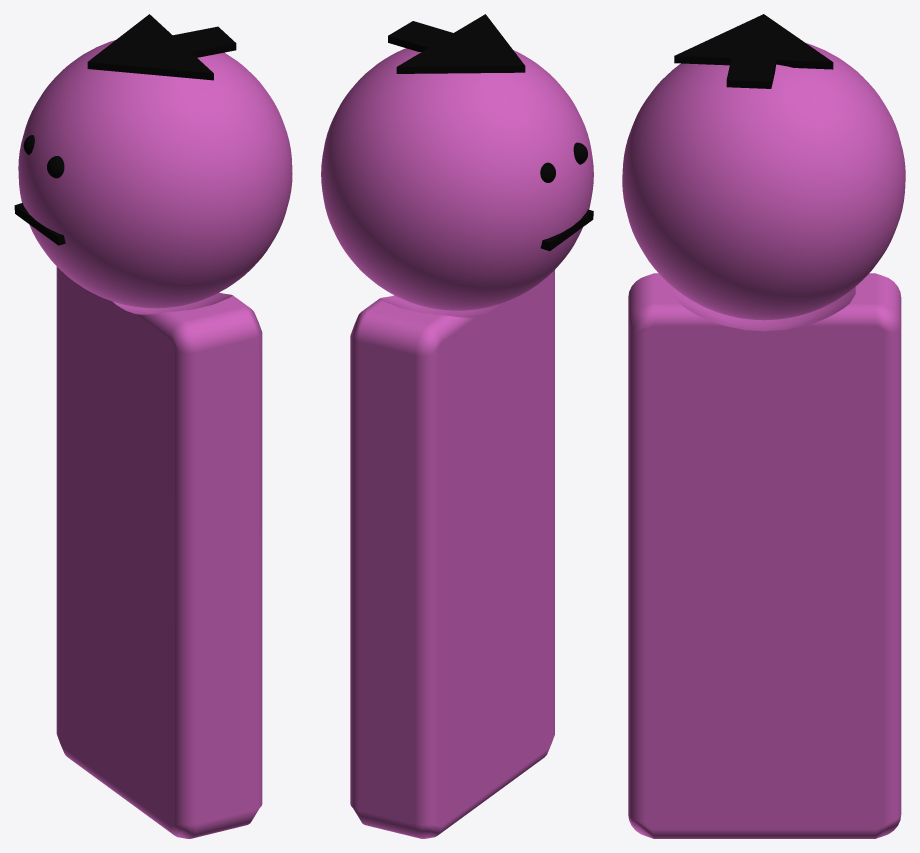
Rendered from pink_poker.obj.
The picture shows the model from 3 angles, left to right: view 1: azimuth 30°, elevation 25°; view 2: azimuth 150°, elevation 25°; view 3: azimuth 270°, elevation 25°; orthographic projection. The views are drawn at different scales.
Parts seen in each view (by area): view 1: 1_Curve.002_Curve.002, 5.002_Curve.002_Curve.002; view 2: 1_Curve.002_Curve.002, 5.002_Curve.002_Curve.002; view 3: 1_Curve.002_Curve.002, 5.002_Curve.002_Curve.002.
Part boxes in pixels (x1,y1,x2,y2): 1_Curve.002_Curve.002: (18, 40, 292, 838); 5.002_Curve.002_Curve.002: (14, 14, 236, 245); 1_Curve.002_Curve.002: (321, 48, 593, 838); 5.002_Curve.002_Curve.002: (388, 14, 593, 251); 1_Curve.002_Curve.002: (622, 43, 905, 838); 5.002_Curve.002_Curve.002: (674, 14, 833, 88).
Size of the model in its own units: 0.1662 by 0.4993 by 0.1661.
